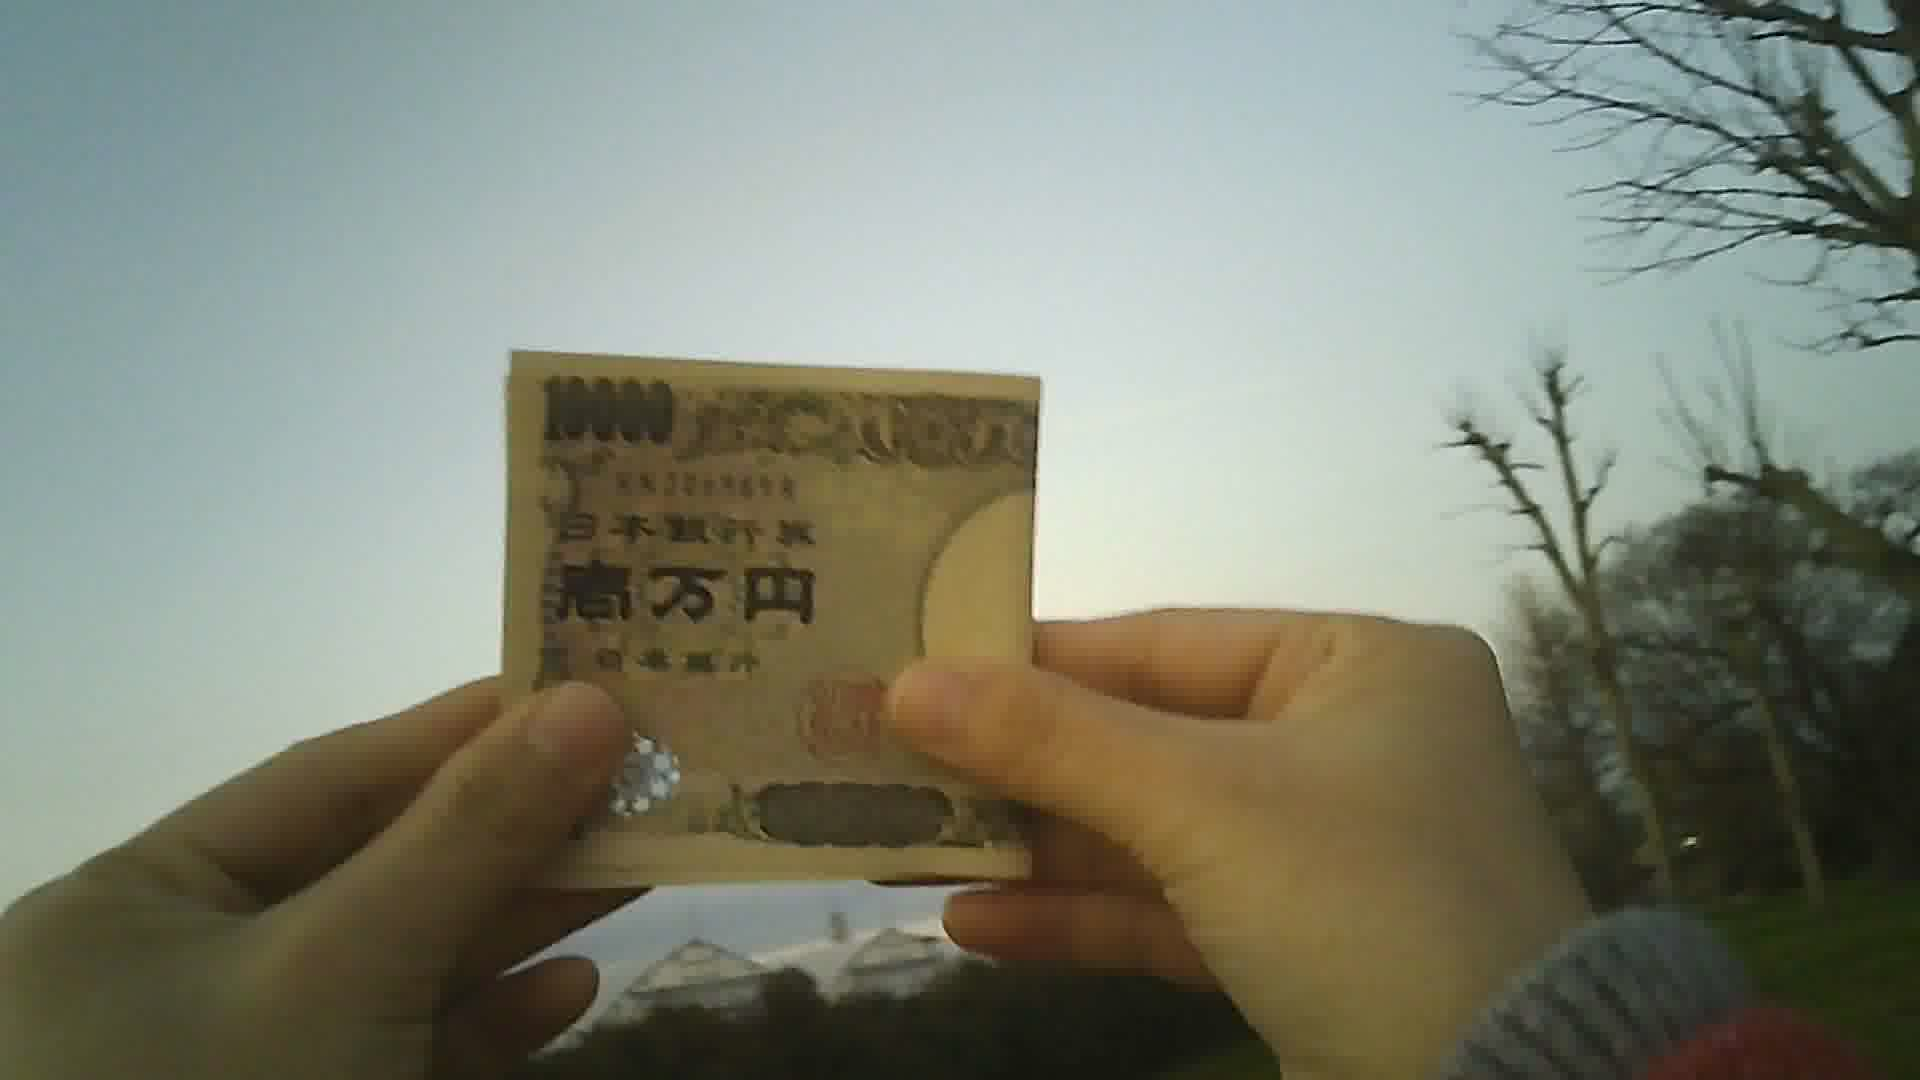10,000 Yen: (433, 319, 1046, 906)
